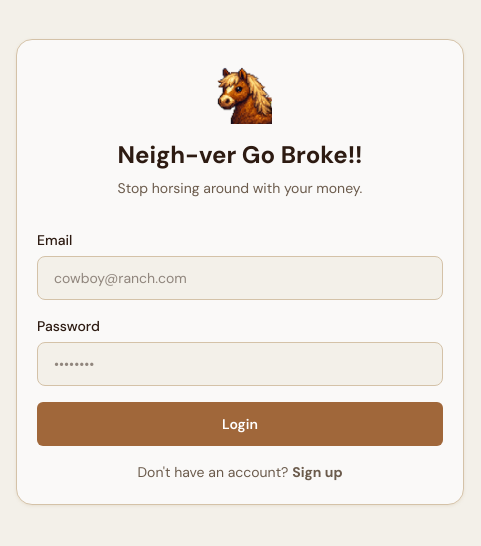
Test: LoginPage › shows validation error when email is empty
The width and height of the screenshot is (481, 546).
Click the button "Login" at (240, 424), box [37, 402, 443, 446]
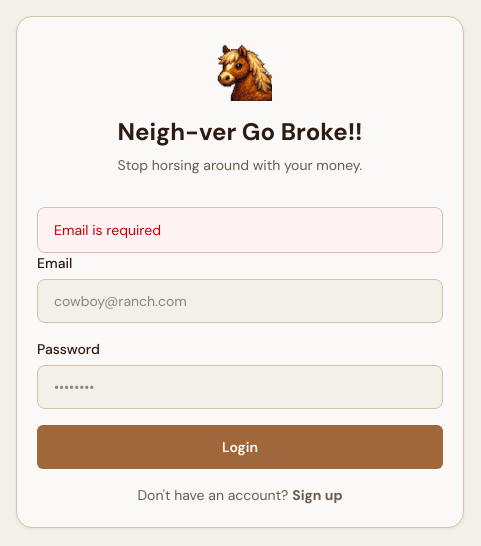
expect the text "Email is required" is shown: met, box [37, 207, 443, 253]
